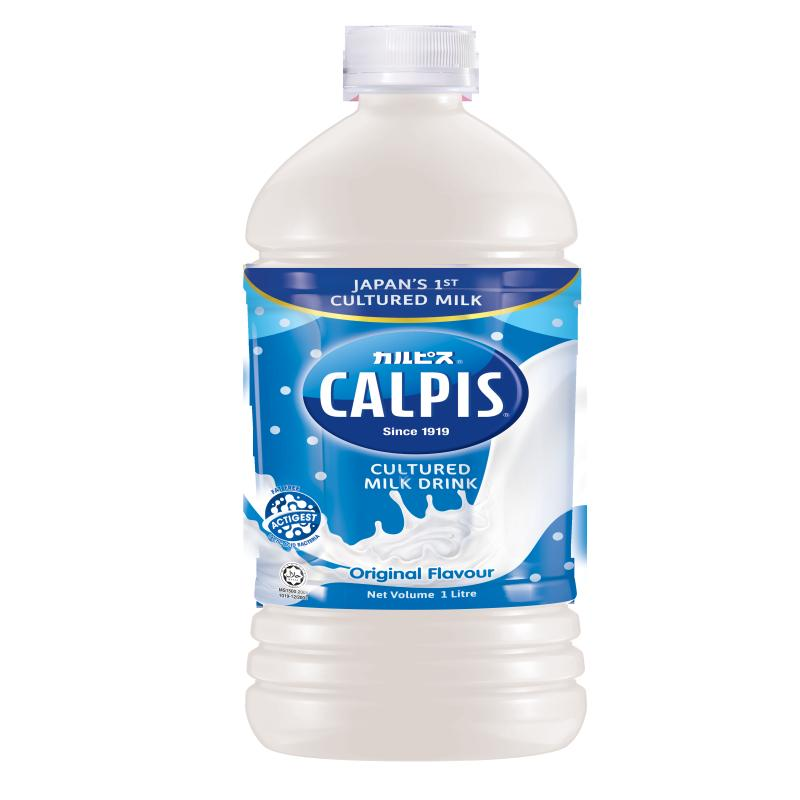botella: (231, 23, 603, 768)
